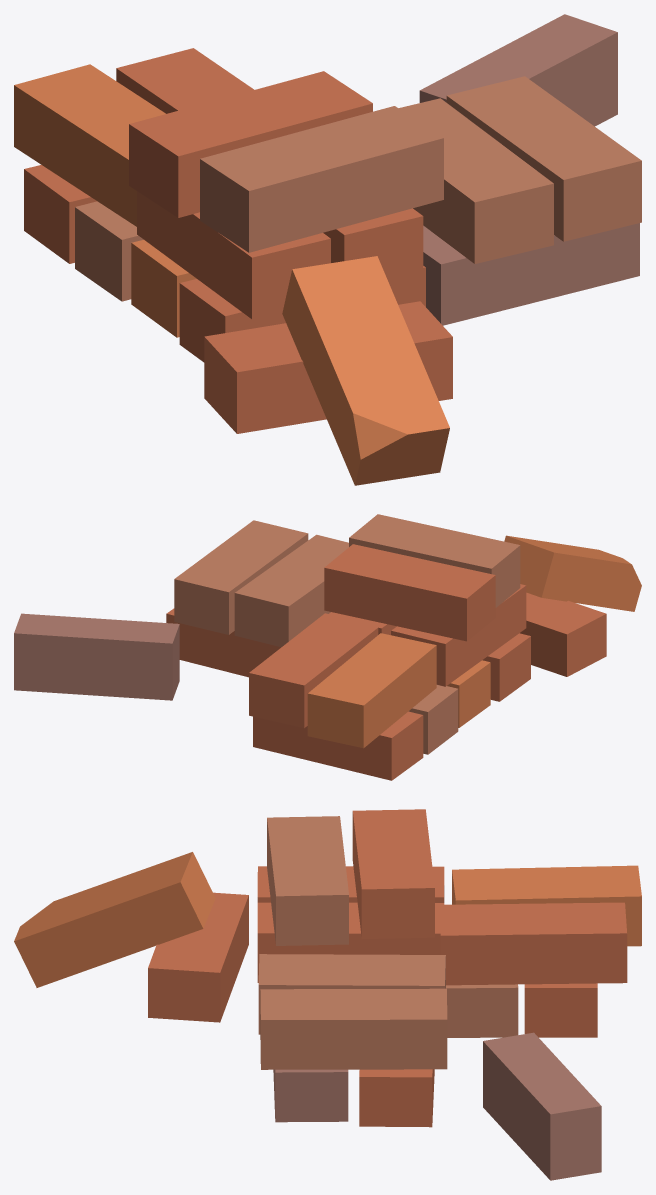
Rendered from Brick_Pile_m_02.fbx.
3 views of the same model, one above another, from view 1: azimuth 30°, elevation 25°; view 2: azimuth 150°, elevation 25°; view 3: azimuth 270°, elevation 25° (orthographic). The views are drawn at different scales.
Parts seen in each view (by area): view 1: Brick_Pile_m_02; view 2: Brick_Pile_m_02; view 3: Brick_Pile_m_02.
Boxes of the visible parts, <box> form: Brick_Pile_m_02: <box>14,14,641,485</box>; Brick_Pile_m_02: <box>14,514,641,780</box>; Brick_Pile_m_02: <box>14,809,641,1180</box>.
Bounding box in the file's own units: 77.91 × 22.89 × 85.89.
